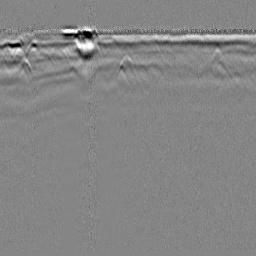cavity: (114, 52, 139, 81)
